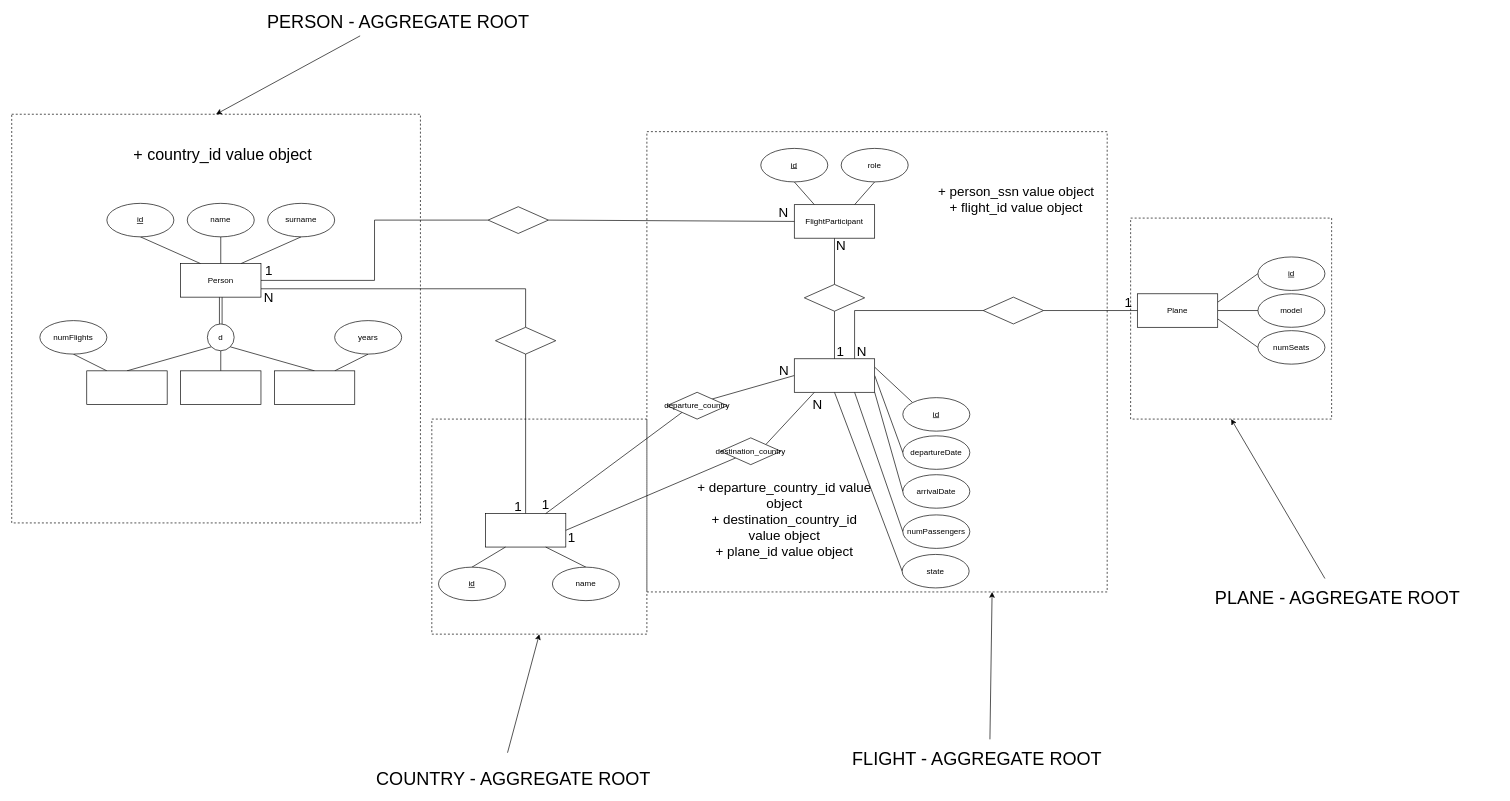
Some shapes in this 1510 by 801 pixel diagram are drawn without their labels. Each missing label, with the centre of its shape:
attendance: point 834,297
corresponds_to: point 517,219
Country: point 525,530
Flight: point 834,375
FlightAttendant: point 126,387
Passenger: point 220,387
Pilot: point 314,387
place_of_birth: point 525,340
usage: point 1013,310
